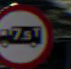Heavy Vehicles: (0, 4, 52, 66)
